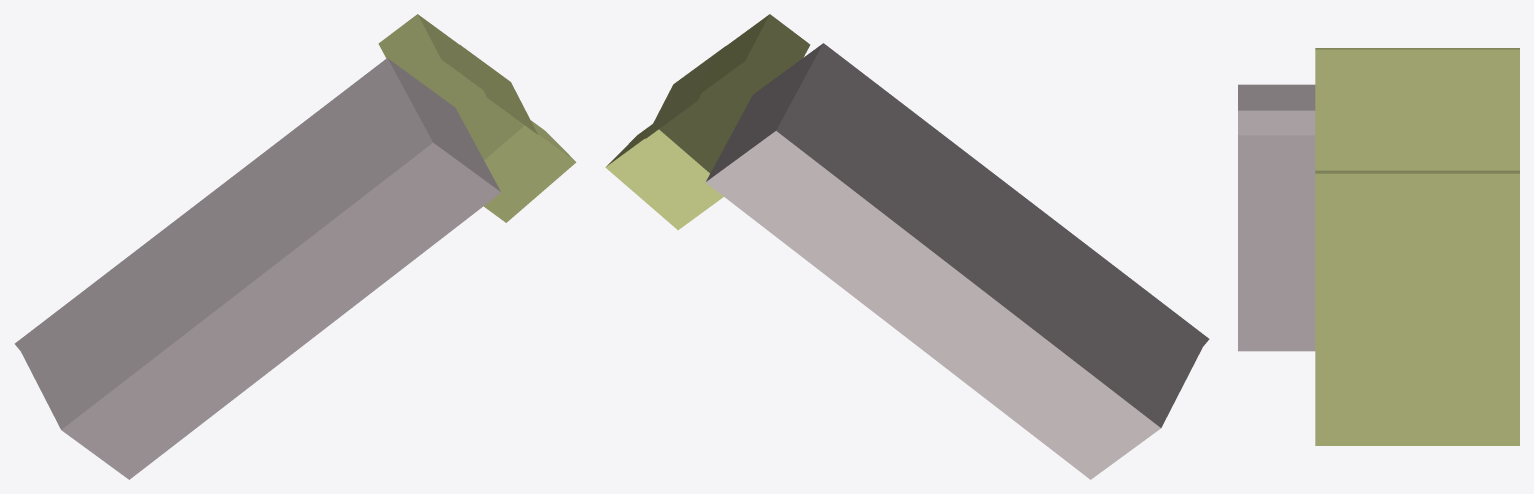
3 renders of one model, left to right at view 1: azimuth 30°, elevation 25°; view 2: azimuth 150°, elevation 25°; view 3: azimuth 270°, elevation 25°, orthographic. The views are drawn at different scales.
Parts seen in each view (by area): view 1: 0_0_1_1_2_1_2_1_2; view 2: 0_0_1_1_2_1_2_1_2; view 3: 0_0_1_1_2_1_2_1_2.
Part boxes in pixels (x1,y1,x2,y2): 0_0_1_1_2_1_2_1_2: (14,14,576,479); 0_0_1_1_2_1_2_1_2: (605,14,1209,479); 0_0_1_1_2_1_2_1_2: (1238,48,1519,445).
Size of the model in its own units: 52.14 by 31.73 by 12.4.
